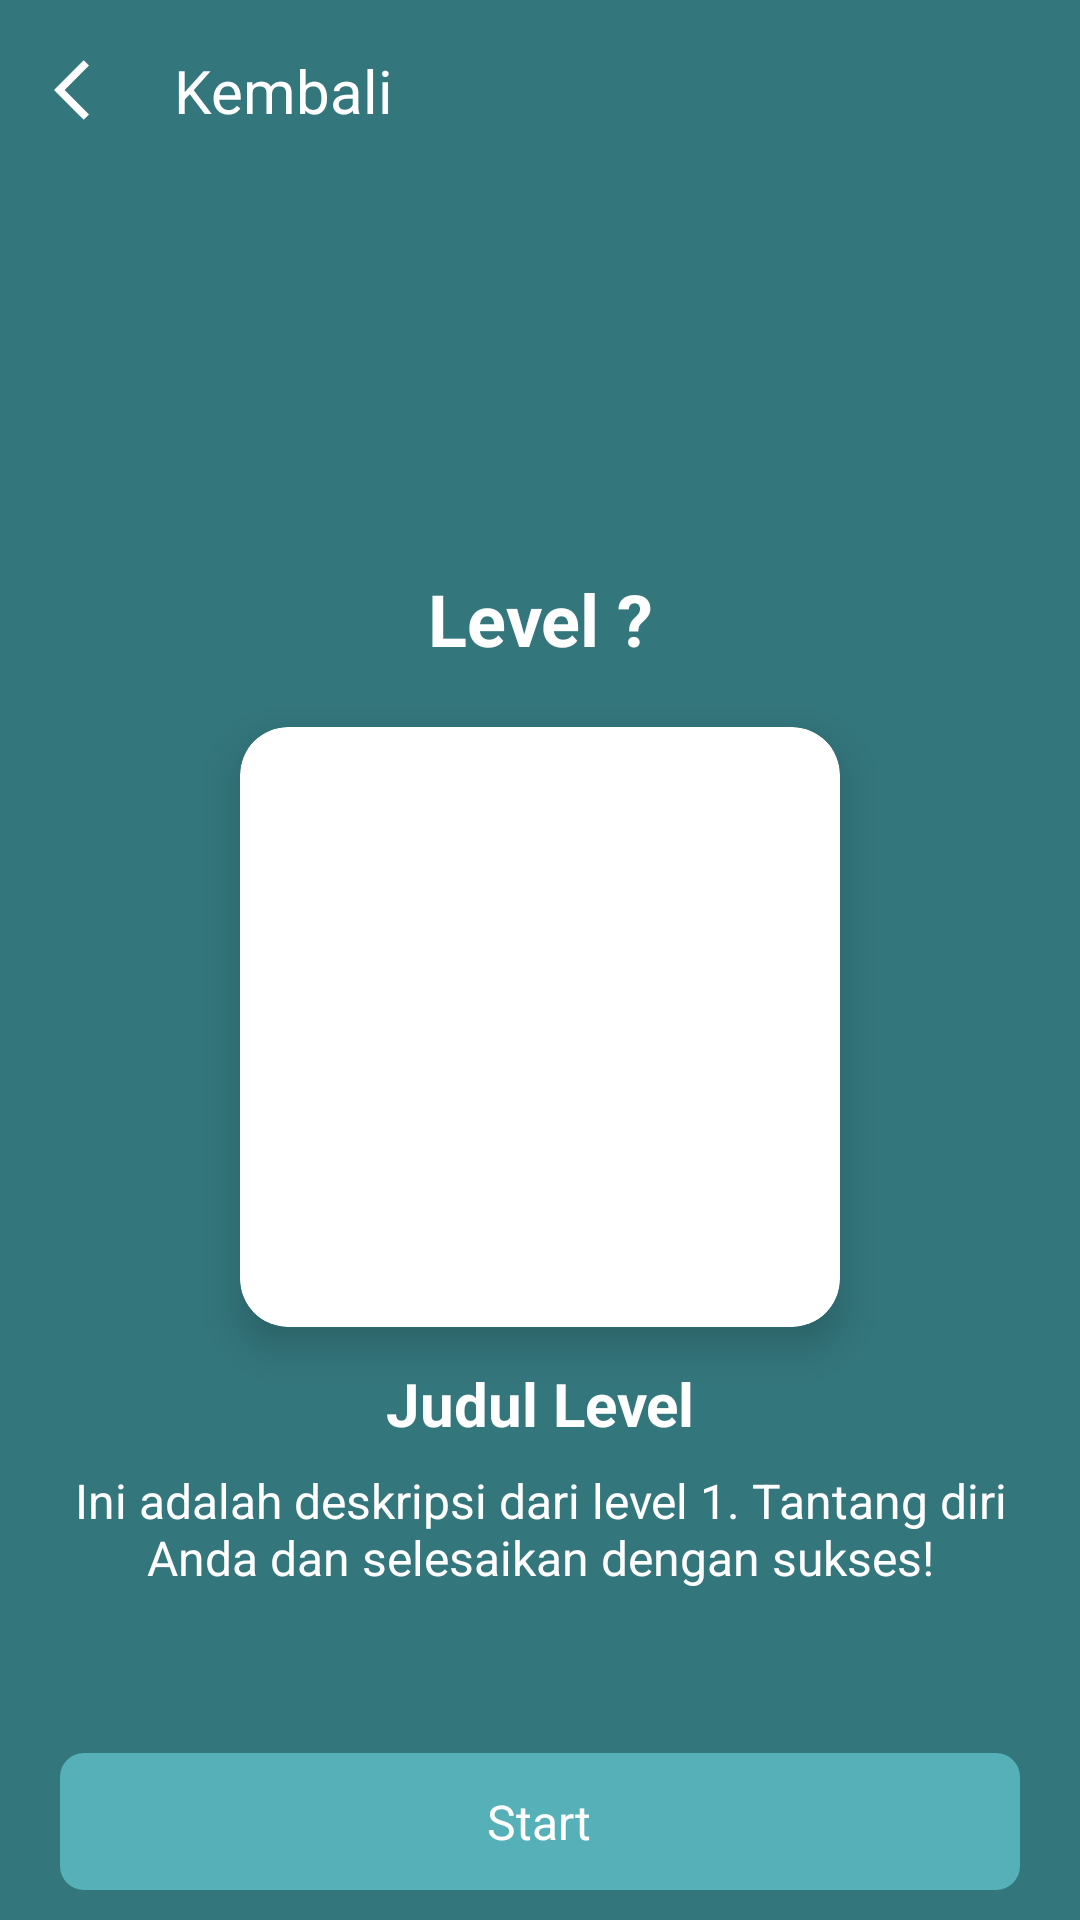

Icon bounding boxes for this 1080x1920 phone screenshot, format [left=x1, top=y1, right=x2, bottom=y2]:
back button: [left=54, top=60, right=89, bottom=120]
